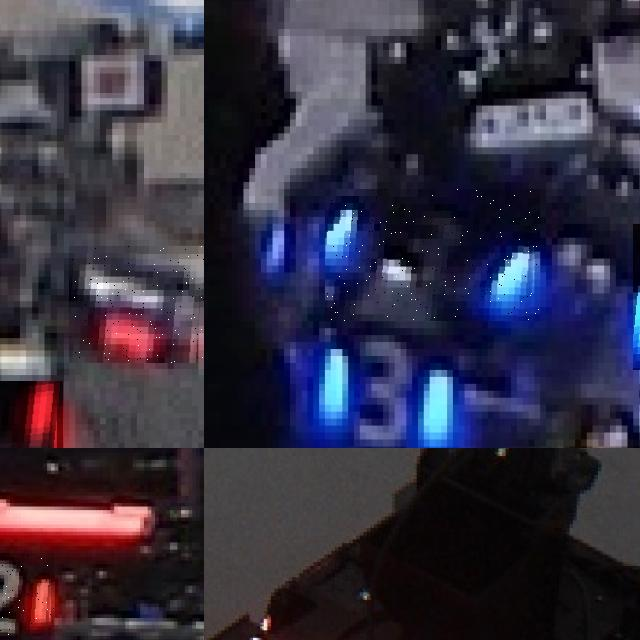B3: (325, 189, 540, 321), (313, 328, 452, 448)
R1: (69, 246, 204, 363)
R2: (0, 553, 54, 635)
